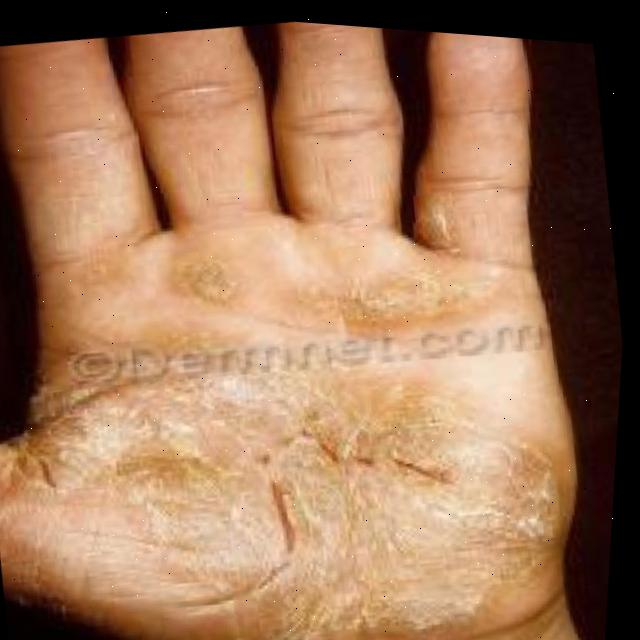Eczema: (55, 253, 547, 634)
